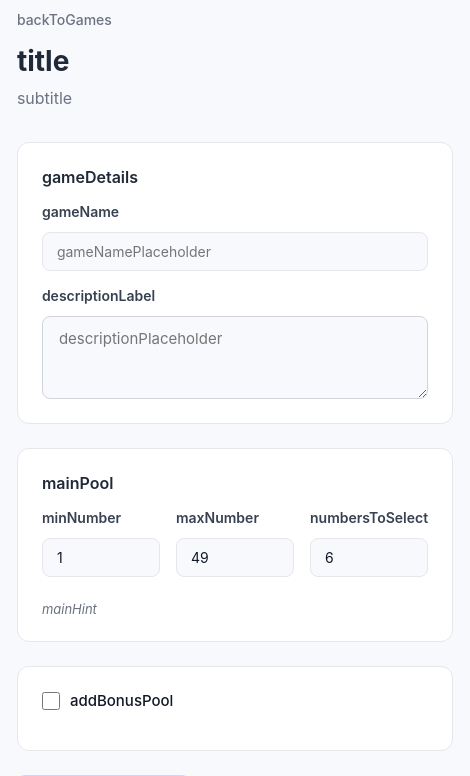
Test: CreateGamePage › should show error when submitting with empty name after filling and clearing
// Type a name then clear it
Type "Test Game" into the field labelled "gameName".
click(235, 252); type("Test Game")  # box [42, 232, 428, 271]
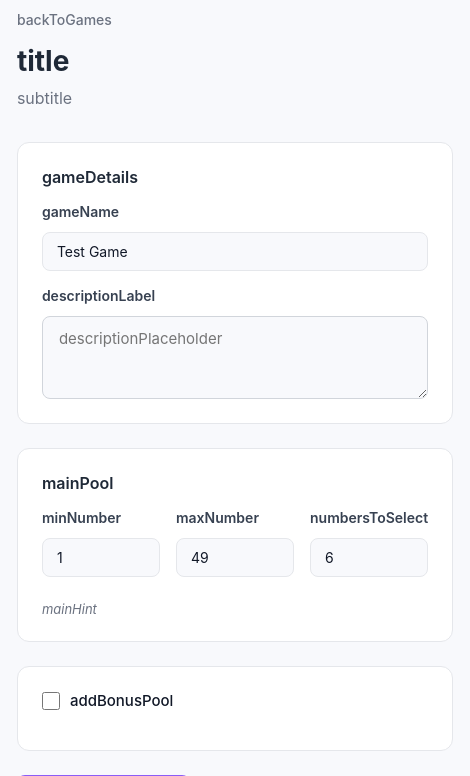
Clear the field labelled "gameName" at (235, 252), box [42, 232, 428, 271]
(page scrolled)
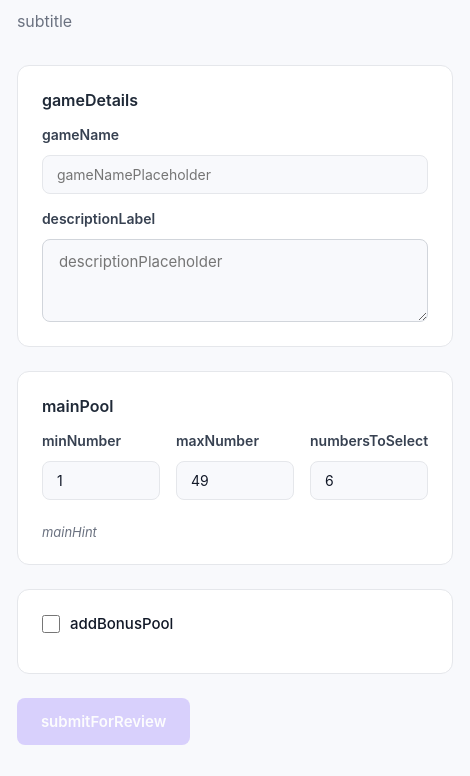
expect the button "submitForReview" is disabled: met, box [17, 698, 190, 745]
